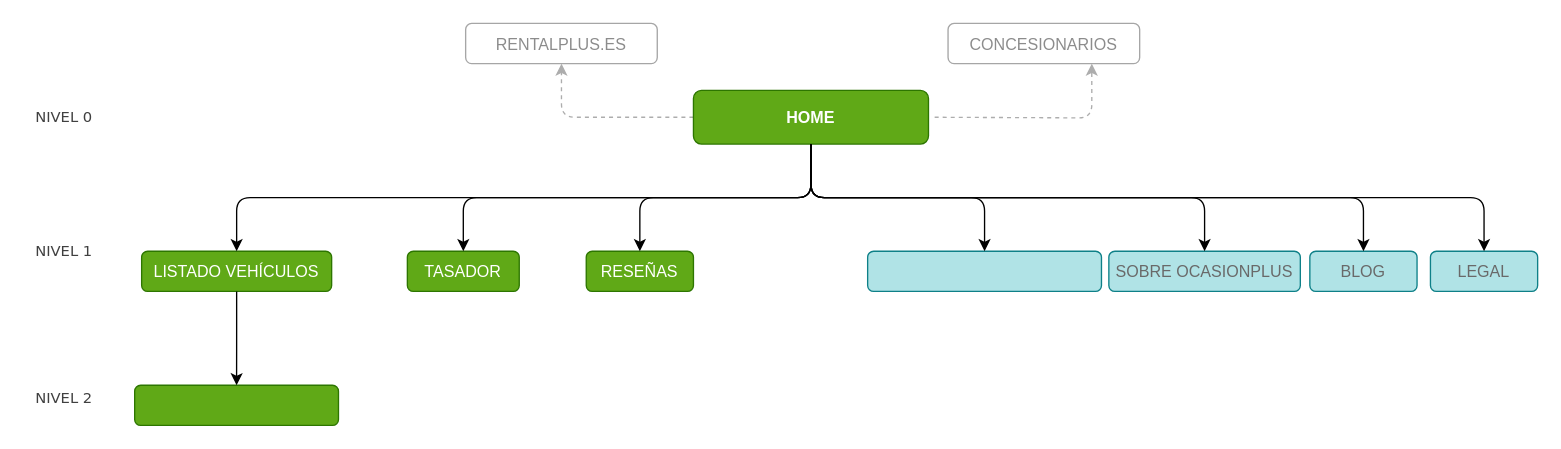
Some shapes in this 1561 by 449 pixel diagram are drawn without their labels. Each missing label, with the box of its shape:
FICHA VEHÍCULO: (133, 384, 338, 425)
TRABAJA CON NOSOTROS: (866, 250, 1101, 291)
